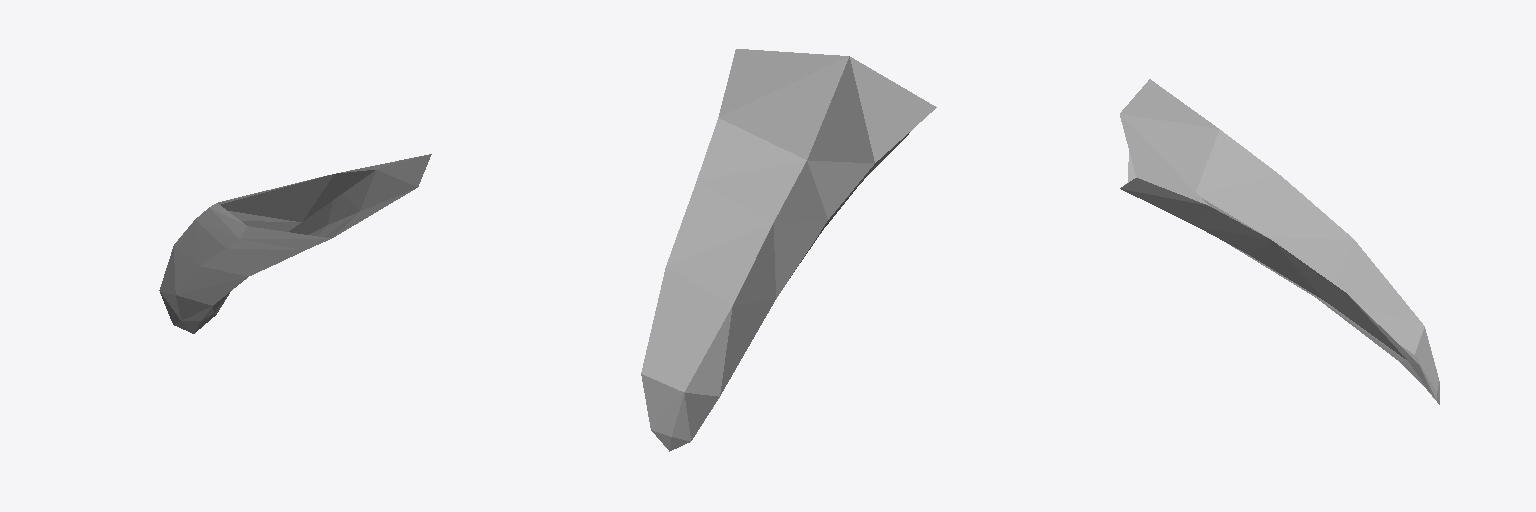
The model's file is bico.obj.
3 renders of one model, left to right at view 1: azimuth 30°, elevation 25°; view 2: azimuth 150°, elevation 25°; view 3: azimuth 270°, elevation 25°, orthographic.
Parts seen in each view (by area): view 1: bico_object_0.004; view 2: bico_object_0.004; view 3: bico_object_0.004.
Part boxes in pixels (left/top/right/bottom): bico_object_0.004: left=159, top=154, right=431, bottom=333; bico_object_0.004: left=641, top=49, right=936, bottom=451; bico_object_0.004: left=1120, top=79, right=1439, bottom=404.
Bounding box in the file's own units: 0.4676 × 0.6072 × 0.6247.